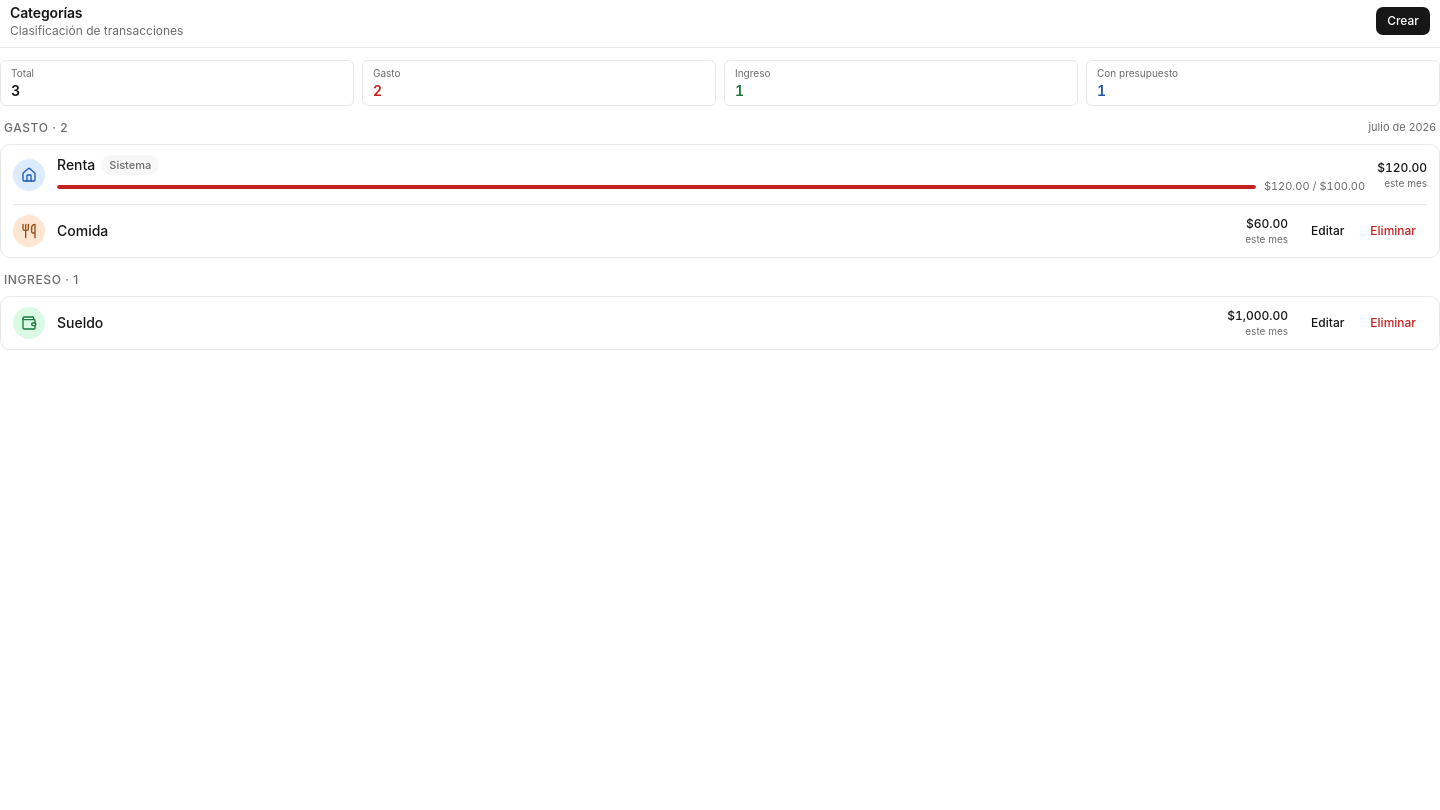
it: CategoriesPage › creates a trimmed category with selected type, color, and visual icon
Click the button "Crear" at (1403, 20), box [1376,6,1430,34]
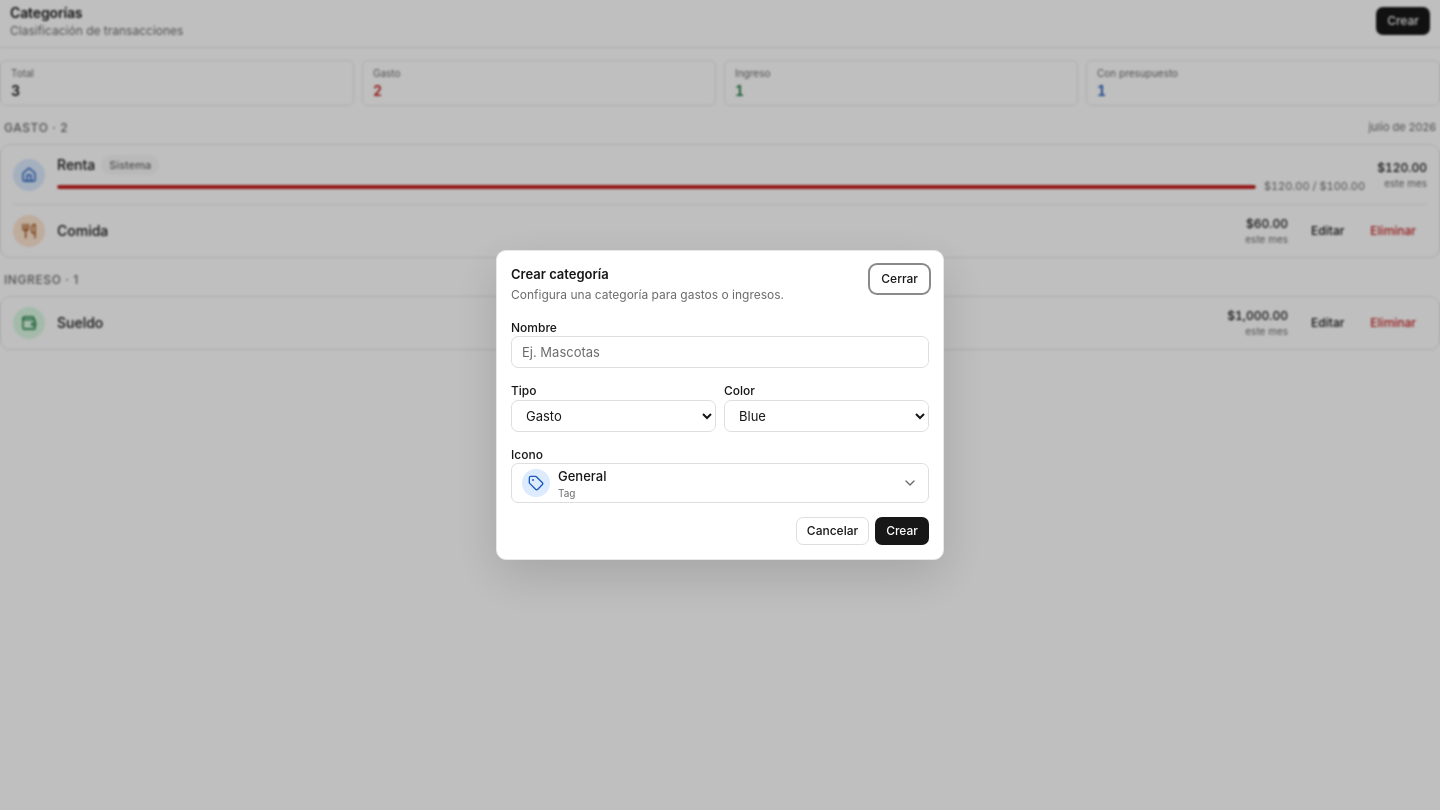
Type "  Bonos  " into the field with placeholder "Ej. Mascotas" at (720, 352), box [511,336,929,368]
Select "Ingreso" in the dropdown labelled "Tipo" at (614, 416), box [511,400,716,432]
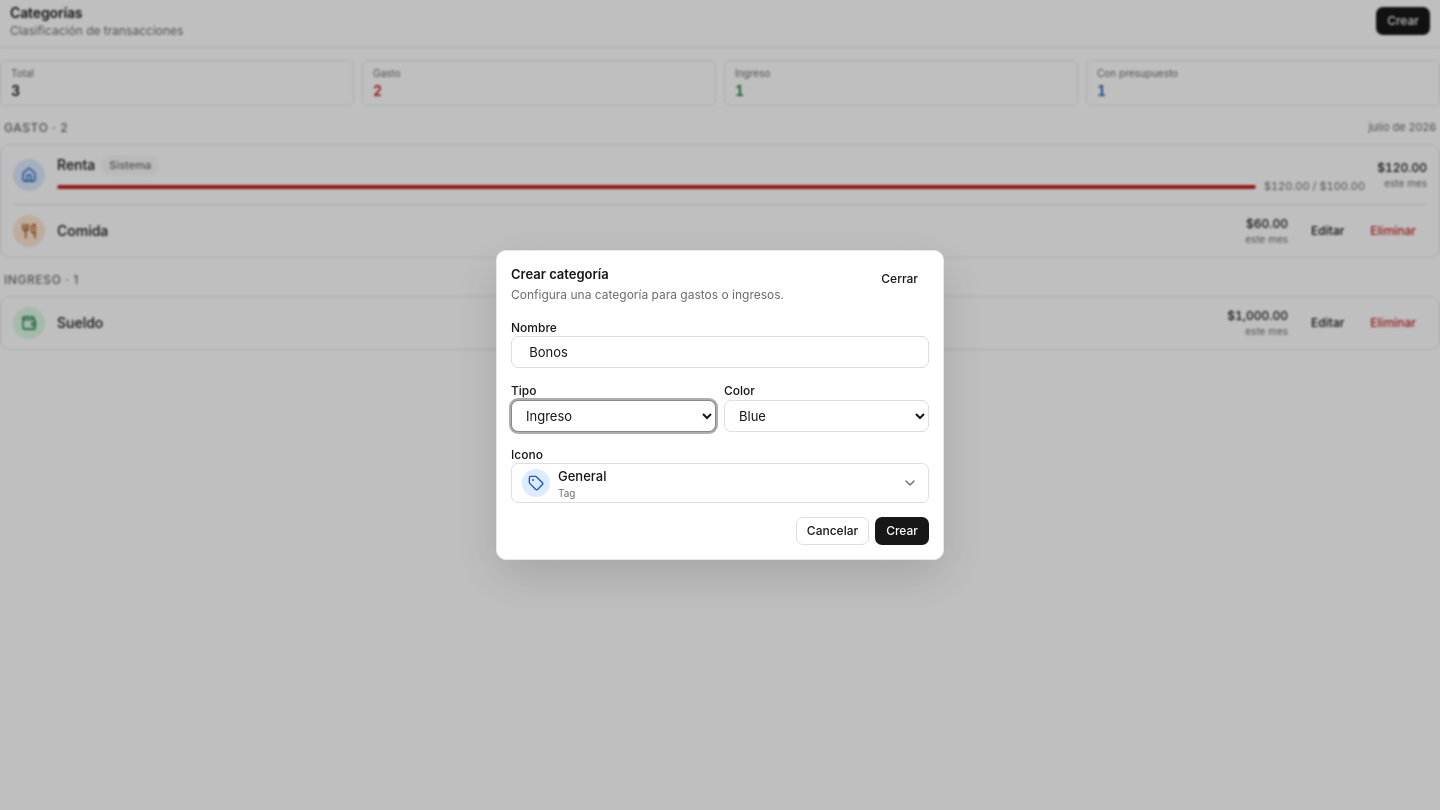
Select "Purple" in the dropdown labelled "Color" at (826, 416), box [724,400,929,432]
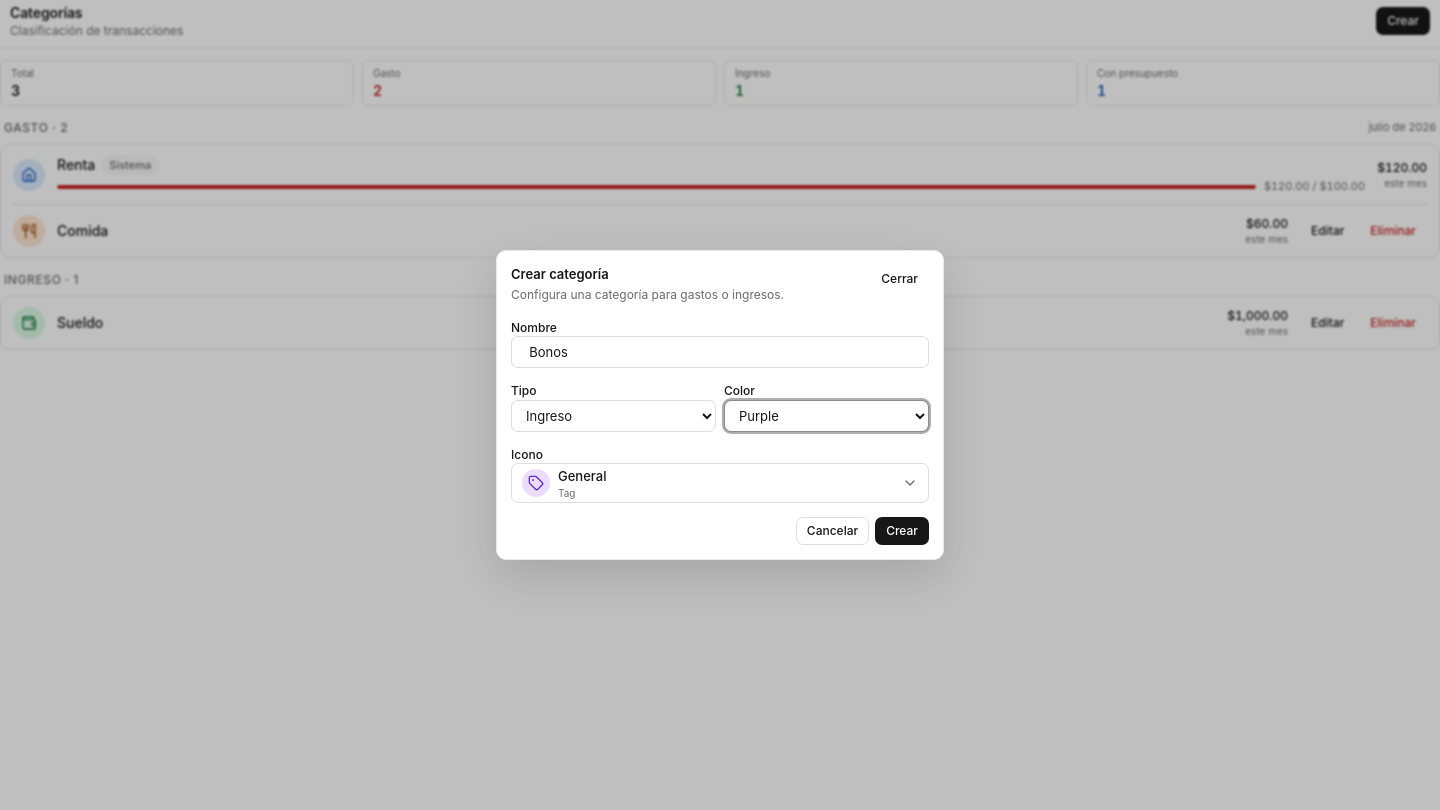
Click the button with aria-label "Icono" at (582, 476), box [511,464,929,504]
(page scrolled)
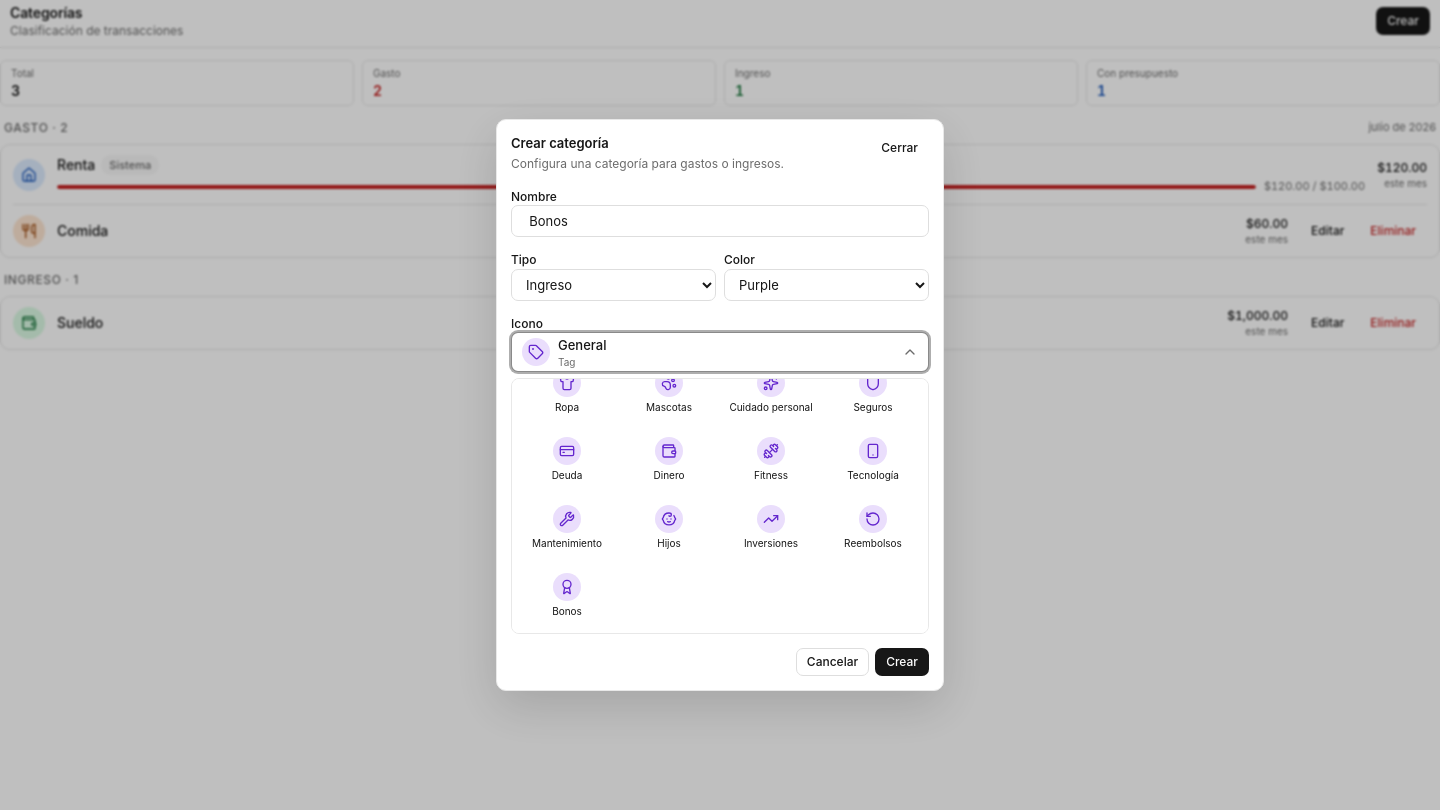
Click the option with aria-label "Bonos (Award)" at (567, 596), box [518,564,616,628]
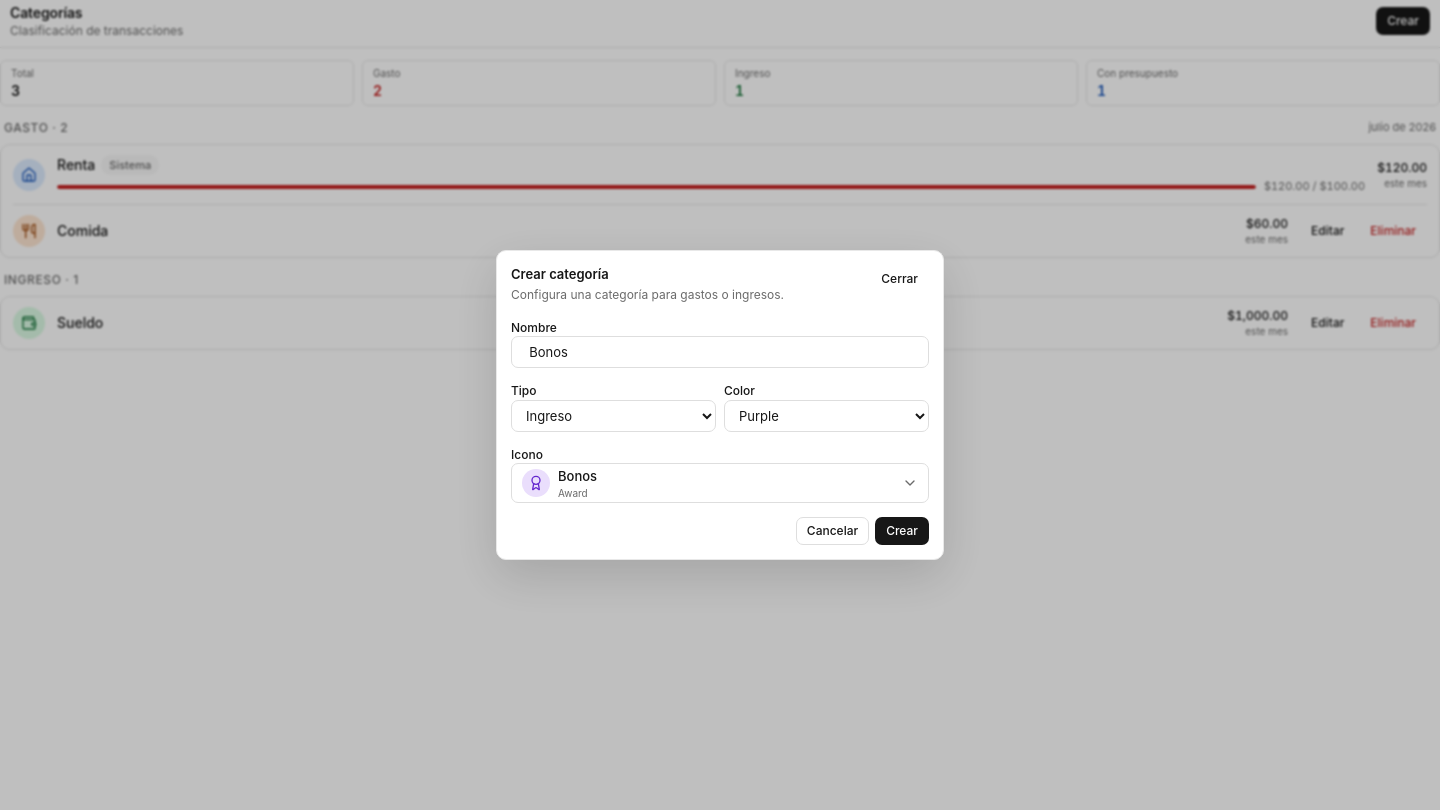
Click the button "Crear" at (902, 532), box [875,518,929,546]
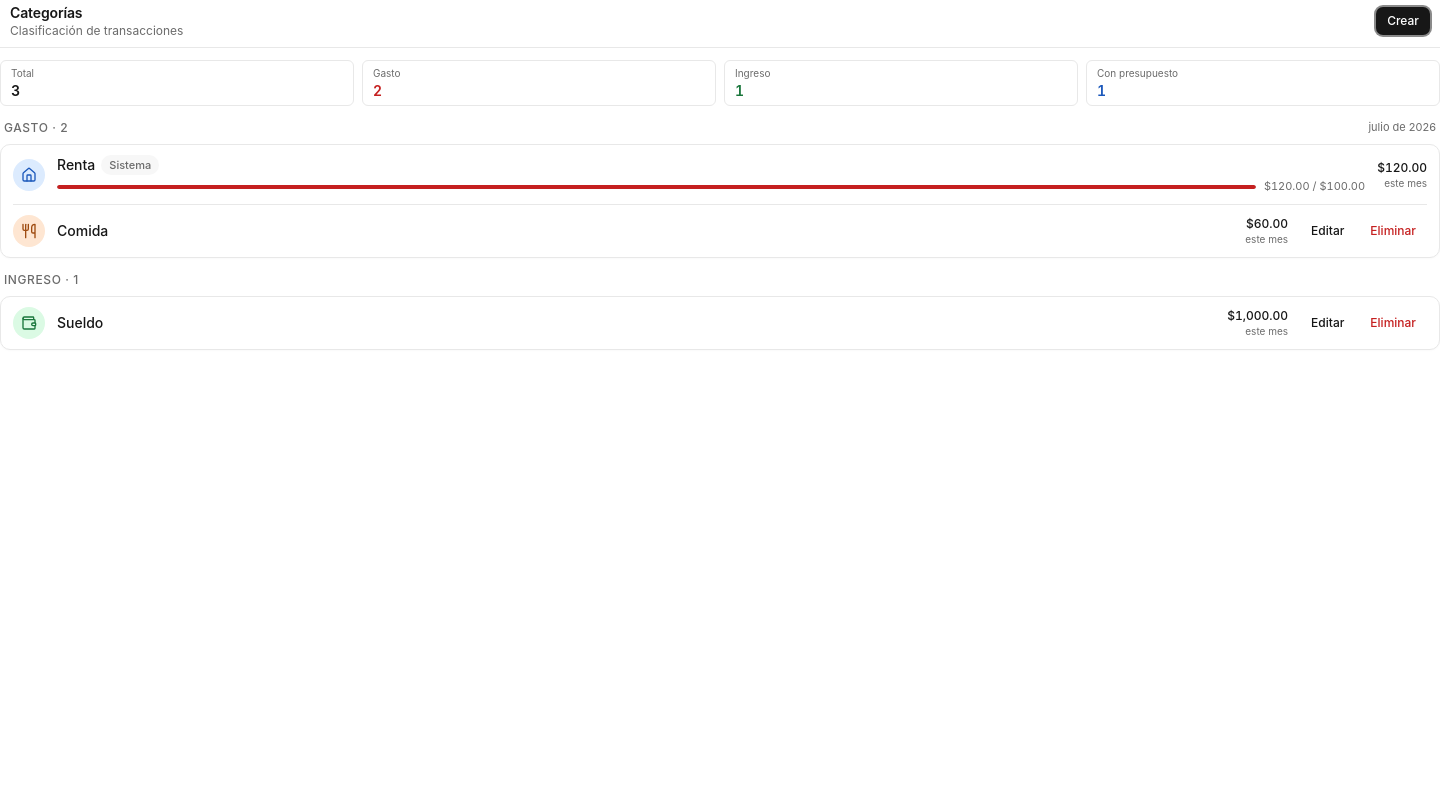
expect the text "Configura una categoría para gastos o ingresos." is gone: met
